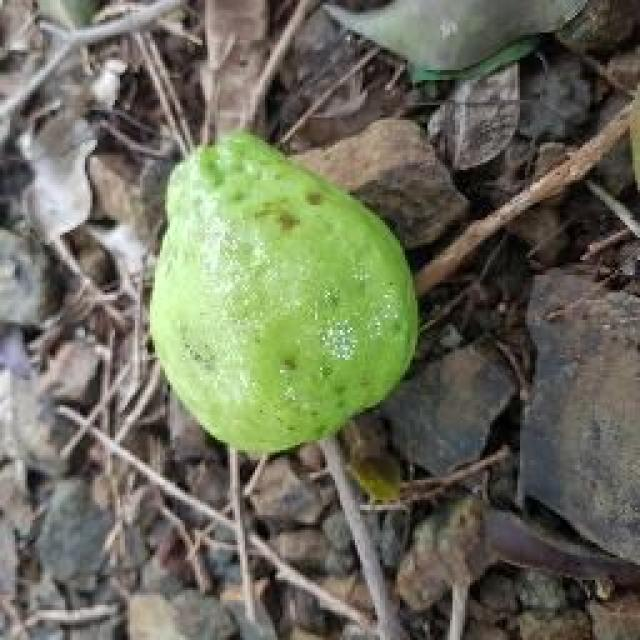Good_Guava: (148, 132, 420, 458)
